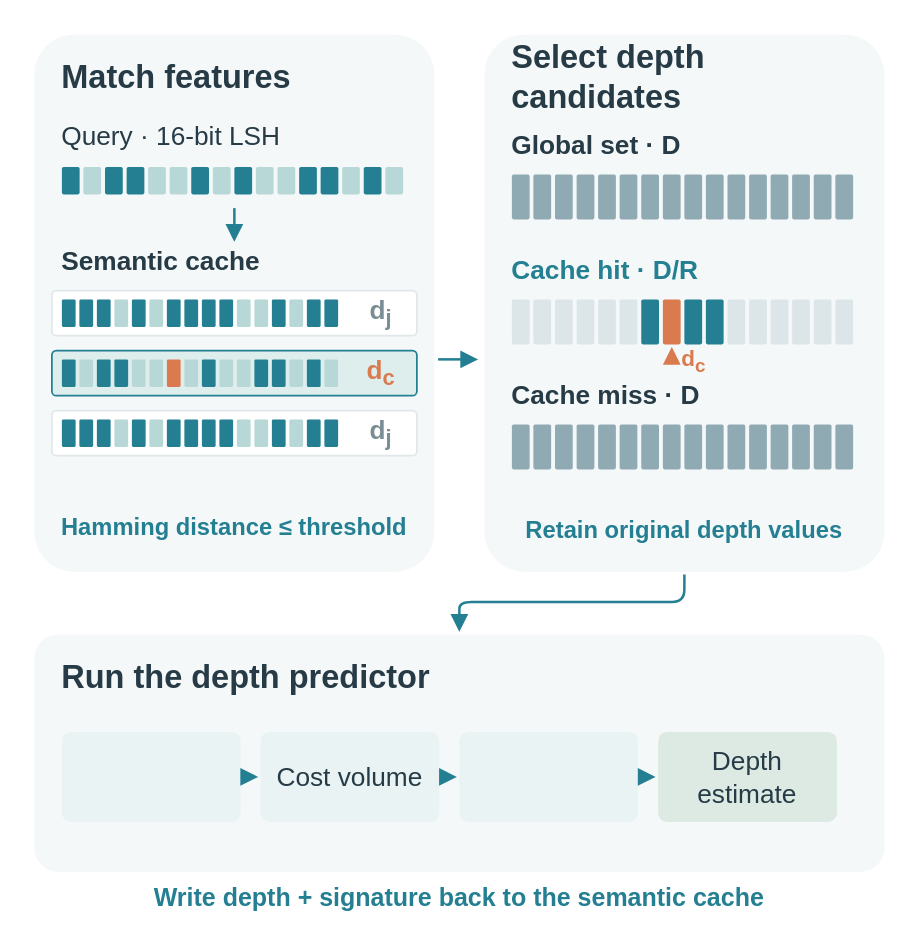
Image size: 918x943. Some labels were removed from this diagram. The shapes that lost their labels are listed below. From the top down, each one's box as (x1, y1, x2, y2) in pixels, then its label:
(61, 731, 240, 821): Cross-view sampling
(459, 731, 638, 821): U-Net refinement
